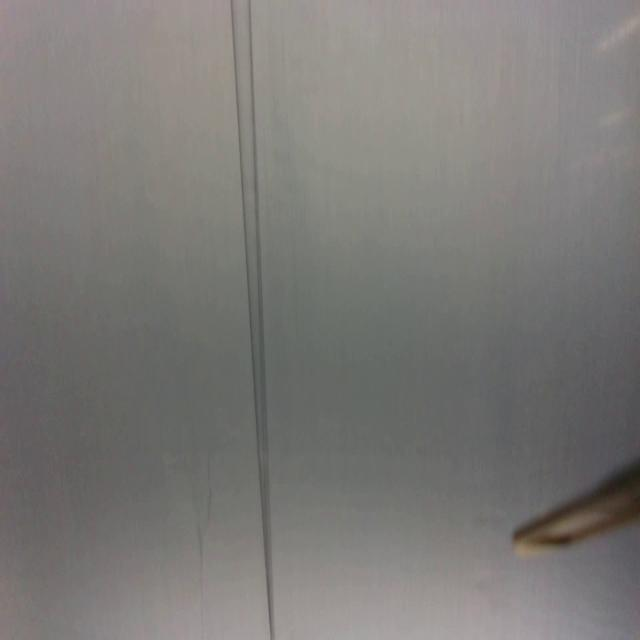crease: (230, 0, 276, 640), (192, 520, 206, 640)
